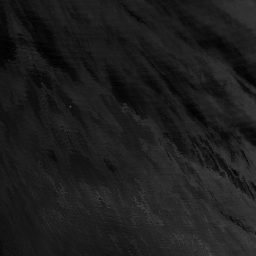Target: (67, 104, 72, 109)
